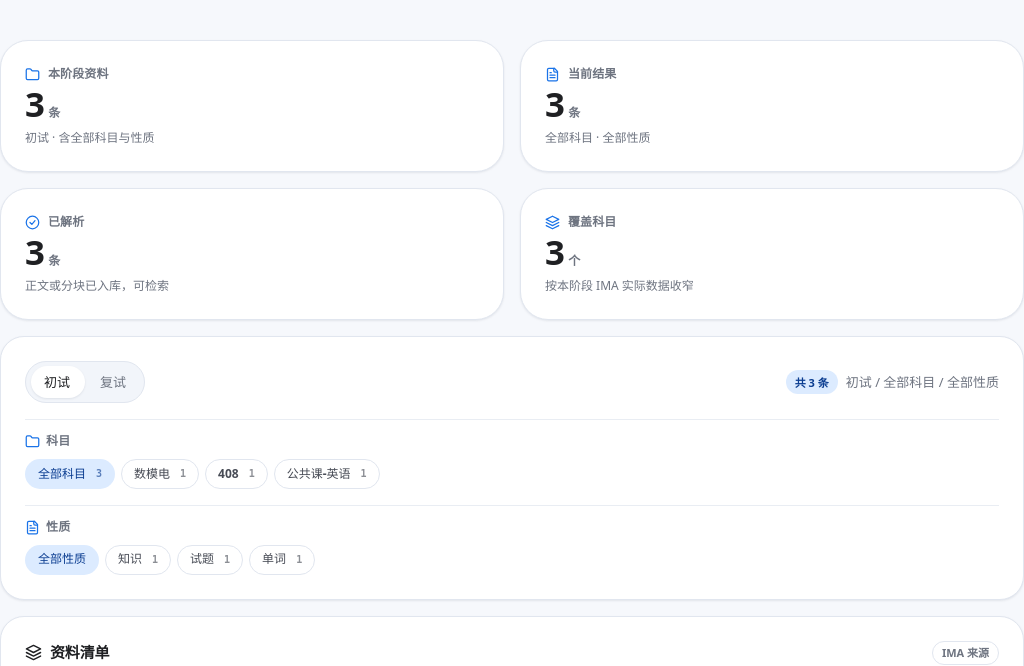
学习文库 Library 页面 › 切到「复试」后按 stage=复试 重新拉数据
This screenshot has width=1024, height=666.
Click the tab "复试".
click(113, 382)  # box [86,366,140,398]
(page scrolled)
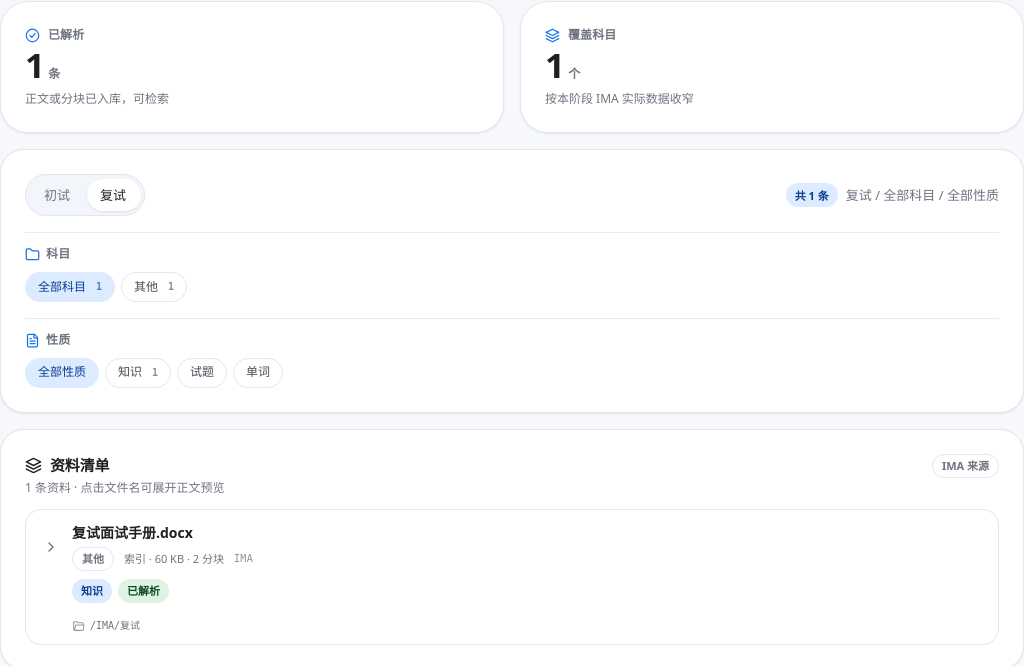
Expected: the text "复试面试手册.docx" is shown, [72,523,193,542]
